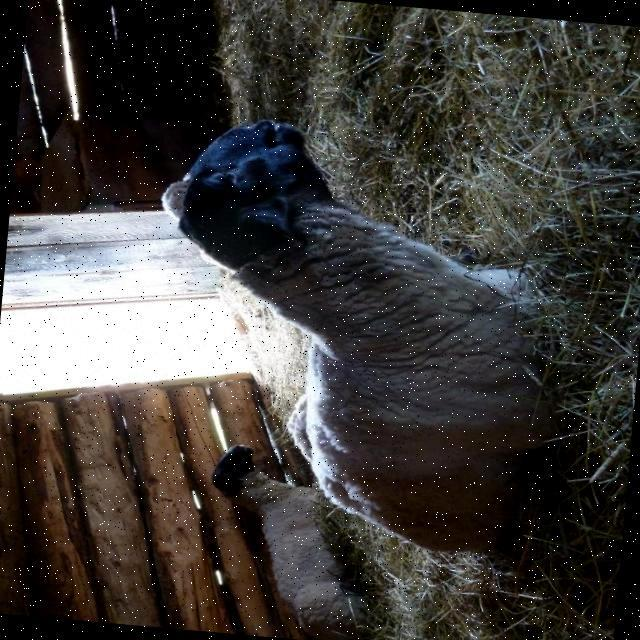sheep: (172, 118, 549, 549), (212, 444, 367, 640)
